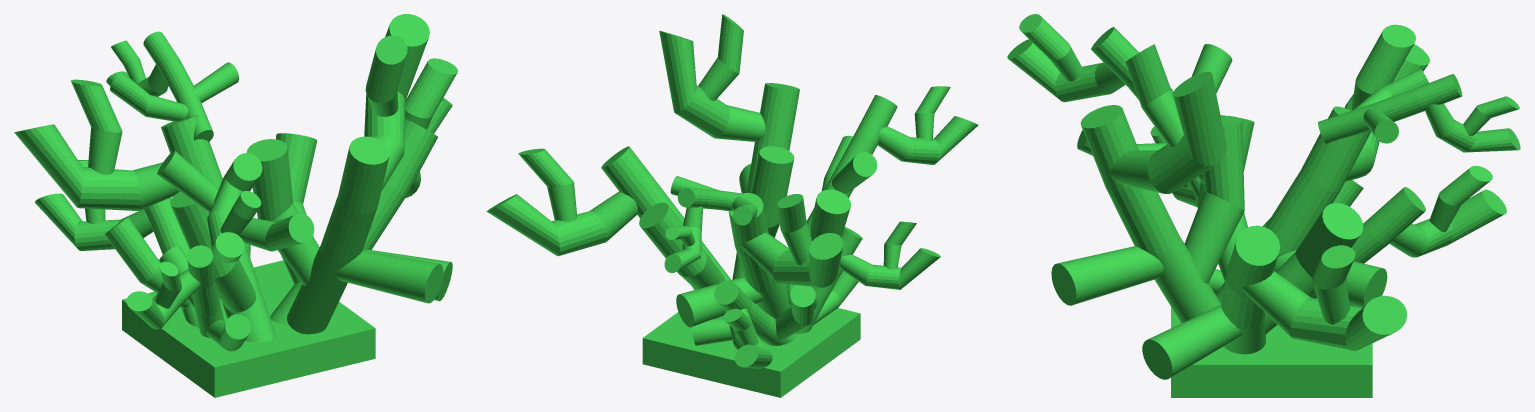
The model's file is Sango(Green).fbx.
3 views of the same model, side by side, from view 1: azimuth 30°, elevation 25°; view 2: azimuth 150°, elevation 25°; view 3: azimuth 270°, elevation 25° (orthographic). The views are drawn at different scales.
Parts seen in each view (by area): view 1: pCylinder15; view 2: pCylinder15; view 3: pCylinder15.
Part boxes in pixels (left/top/right/bottom): pCylinder15: left=14, top=14, right=457, bottom=397; pCylinder15: left=486, top=14, right=978, bottom=397; pCylinder15: left=1007, top=14, right=1520, bottom=397.
Size of the model in its own units: 16.83 by 12.48 by 16.31.
